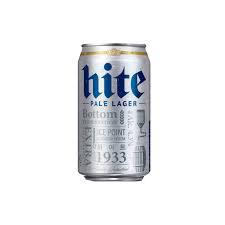beer: (77, 42, 152, 184)
